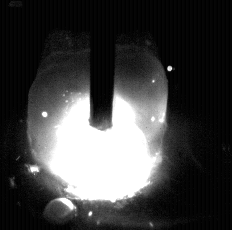arame: (91, 0, 114, 131)
poca: (26, 0, 166, 230)
